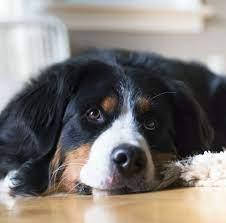Dog: (40, 57, 189, 187)
